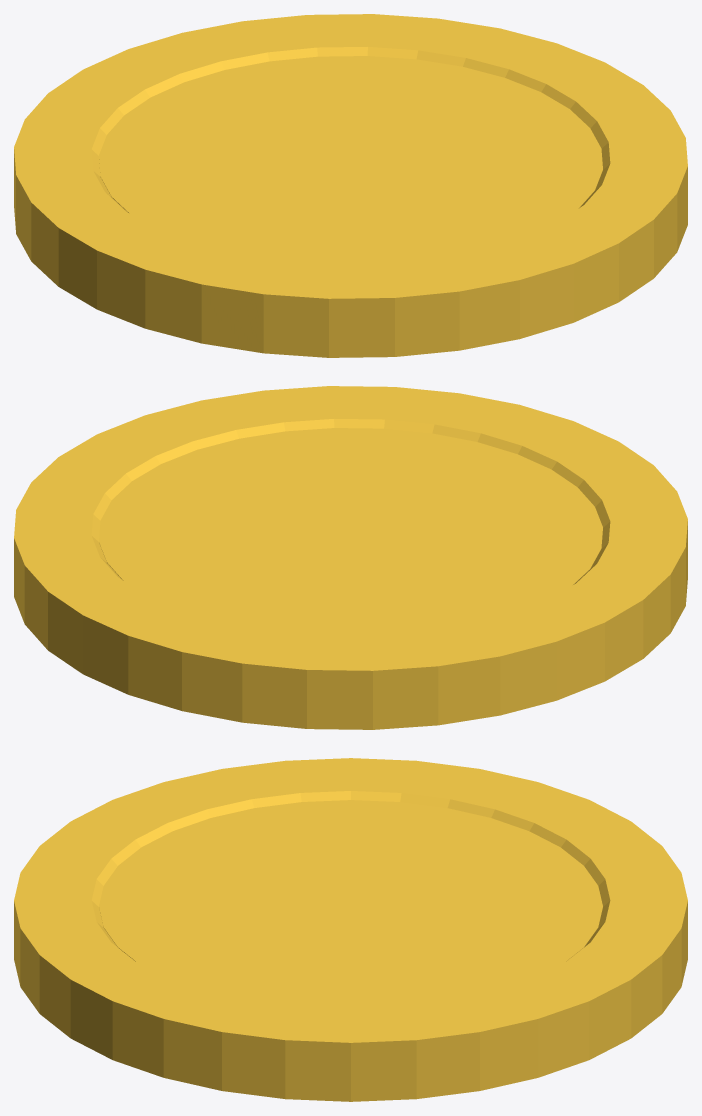
File: coin 1.fbx
3 views of the same model, one above another, from view 1: azimuth 30°, elevation 25°; view 2: azimuth 150°, elevation 25°; view 3: azimuth 270°, elevation 25° (orthographic).
Visible parts, largest first — view 1: Circle; view 2: Circle; view 3: Circle.
Part boxes in pixels (box(x1,y1,x2,y2)): Circle: box(14, 14, 687, 357); Circle: box(14, 386, 687, 729); Circle: box(14, 758, 687, 1101).
Size of the model in its own units: 73.04 by 7.05 by 73.04.
